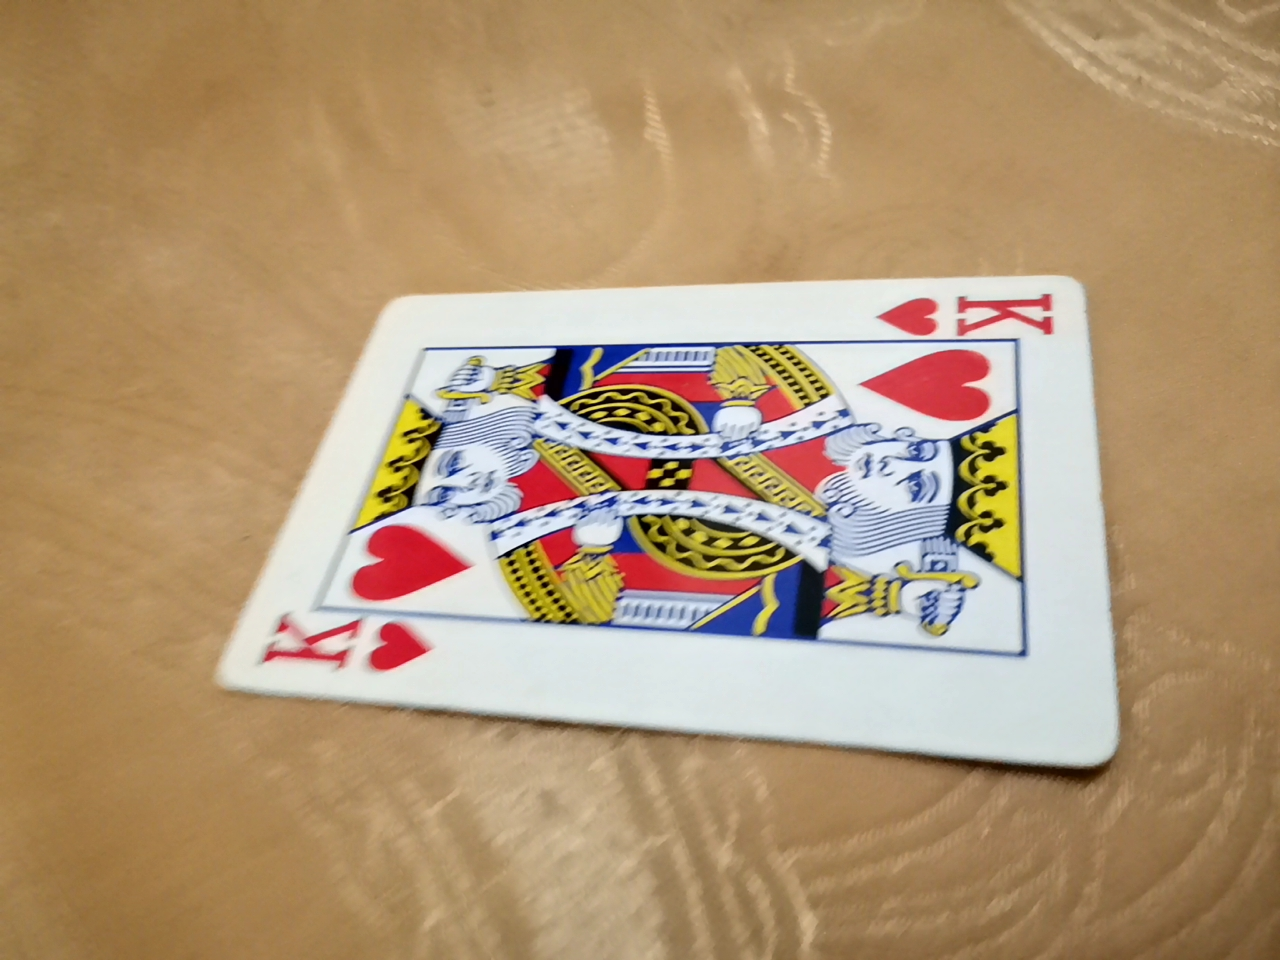hx k: (163, 287, 1108, 799)
